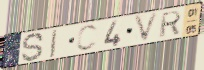4: (102, 18, 123, 48)
C: (75, 23, 100, 53)
I: (49, 28, 59, 59)
R: (157, 9, 183, 40)
S: (20, 31, 46, 63)
V: (133, 10, 161, 45)
